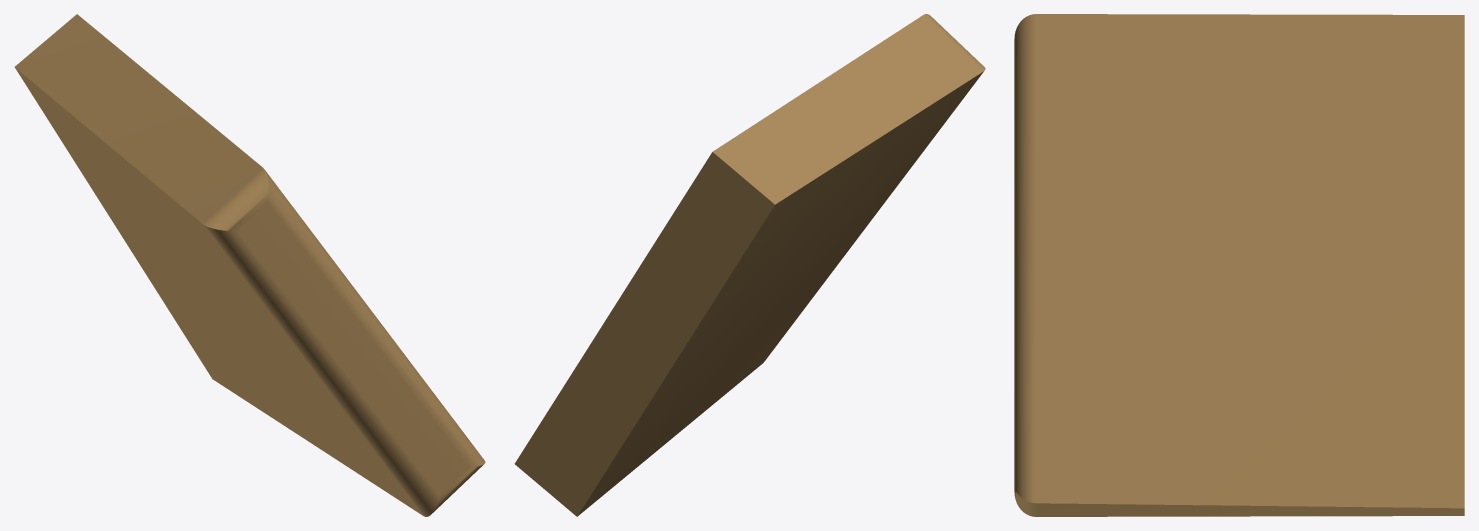
The model's file is libro.obj.
3 renders of one model, left to right at view 1: azimuth 30°, elevation 25°; view 2: azimuth 150°, elevation 25°; view 3: azimuth 270°, elevation 25°, orthographic. The views are drawn at different scales.
Parts seen in each view (by area): view 1: libro:pCube13; view 2: libro:pCube13; view 3: libro:pCube13.
Boxes of the visible parts, x1=… form: libro:pCube13: x1=14, y1=14, x2=485, y2=516; libro:pCube13: x1=514, y1=14, x2=985, y2=516; libro:pCube13: x1=1014, y1=14, x2=1464, y2=516.
Bounding box in the file's own units: 0.1704 × 0.231 × 0.2193.
1 material, 1 textured.
